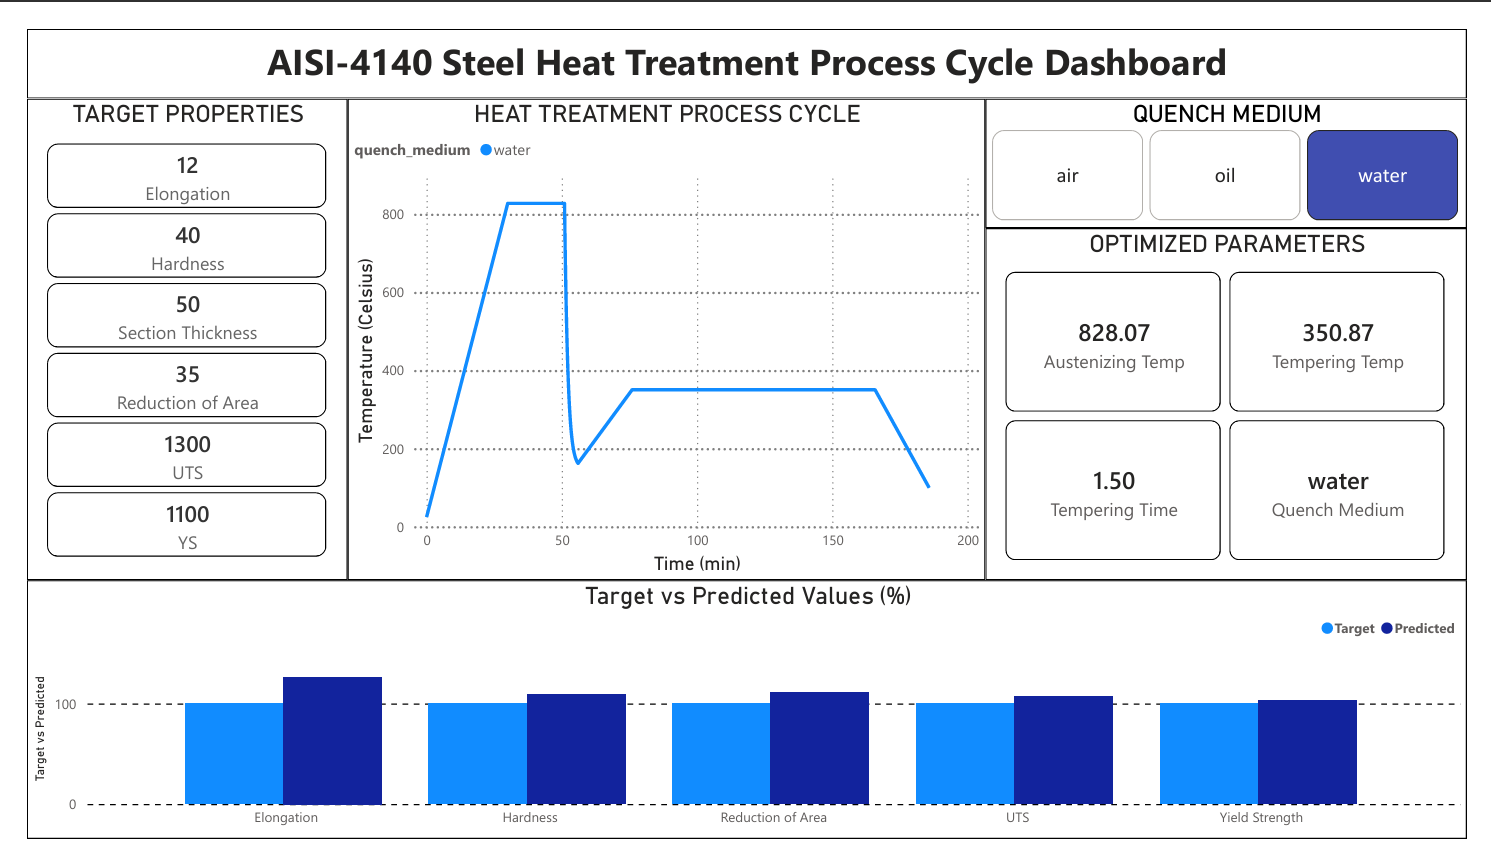

The dashboard page shown, as its layout file describes it:
{"tool":"powerbi","page":{"name":"Heat Treatment Designer","canvas":[1280,720],"ordinal":0},"visuals":[{"type":"textbox","box":[0,0,1280.3,62.4],"z":0},{"type":"advancedSlicerVisual","title":"QUENCH MEDIUM","fields":{"Values":["Inverse_Results.quench_medium"]},"box":[852.3,62.4,428,114.9],"z":1000},{"type":"lineChart","title":"HEAT TREATMENT PROCESS CYCLE","fields":{"Category":["Heat_Treatment_Cycle.Time_min"],"Y":["Heat_Treatment_Cycle.Temperature_Cycle"],"Series":["Heat_Treatment_Cycle.quench_medium"]},"box":[284.9,62.4,567.4,428],"z":2000},{"type":"cardVisual","title":"TARGET PROPERTIES","fields":{"Data":["Heat_Treatment_Input.Elongation","Heat_Treatment_Input.Hardness","Heat_Treatment_Input.Section Thickness","Heat_Treatment_Input.Reduction of Area","Heat_Treatment_Input.UTS","Heat_Treatment_Input.YS"]},"box":[0,62.4,284.9,428],"z":3000},{"type":"cardVisual","title":"OPTIMIZED PARAMETERS","fields":{"Data":["Inverse_Results.Austenizing Temp","Inverse_Results.Tempering Temp","Inverse_Results.Tempering Time","Min(Inverse_Results.quench_medium)"]},"box":[852.3,177.3,428,313],"z":4000},{"type":"clusteredColumnChart","title":"Target vs Predicted Values (%)","fields":{"Category":["PropertyTable.PropertyName"],"Y":["PropertyTable.Target %","PropertyTable.Predicted %"]},"box":[0,490.4,1280.3,229.9],"z":5000}]}

Visuals, with their boxes in screenshot pixels (x1, y1, x2, y2), scaled from the page's 1280x720 canvas onto the 1491x857 screenshot:
textbox: (0,0,1490,74)
"QUENCH MEDIUM" advancedSlicerVisual: (993,74,1490,211)
"HEAT TREATMENT PROCESS CYCLE" lineChart: (332,74,993,584)
"TARGET PROPERTIES" cardVisual: (0,74,332,584)
"OPTIMIZED PARAMETERS" cardVisual: (993,211,1490,584)
"Target vs Predicted Values (%)" clusteredColumnChart: (0,584,1490,856)
